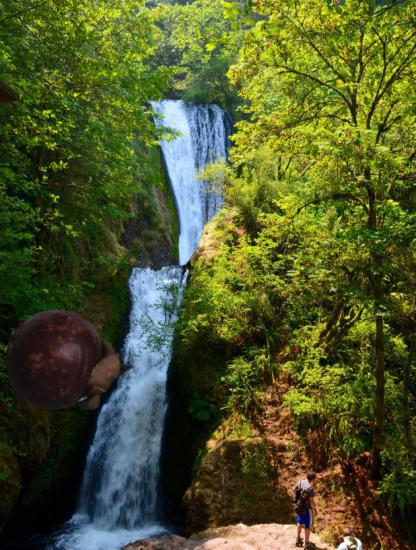Mangostan: (4, 301, 132, 429)
